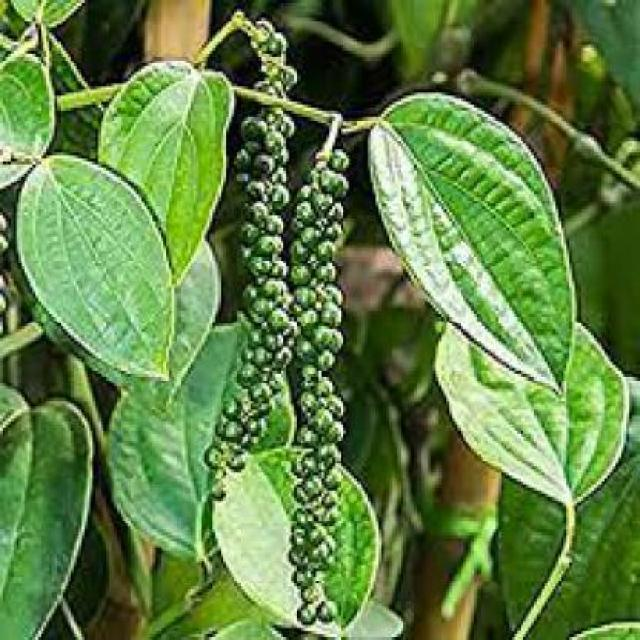UNRIPE: (289, 123, 354, 637), (219, 19, 276, 476)
